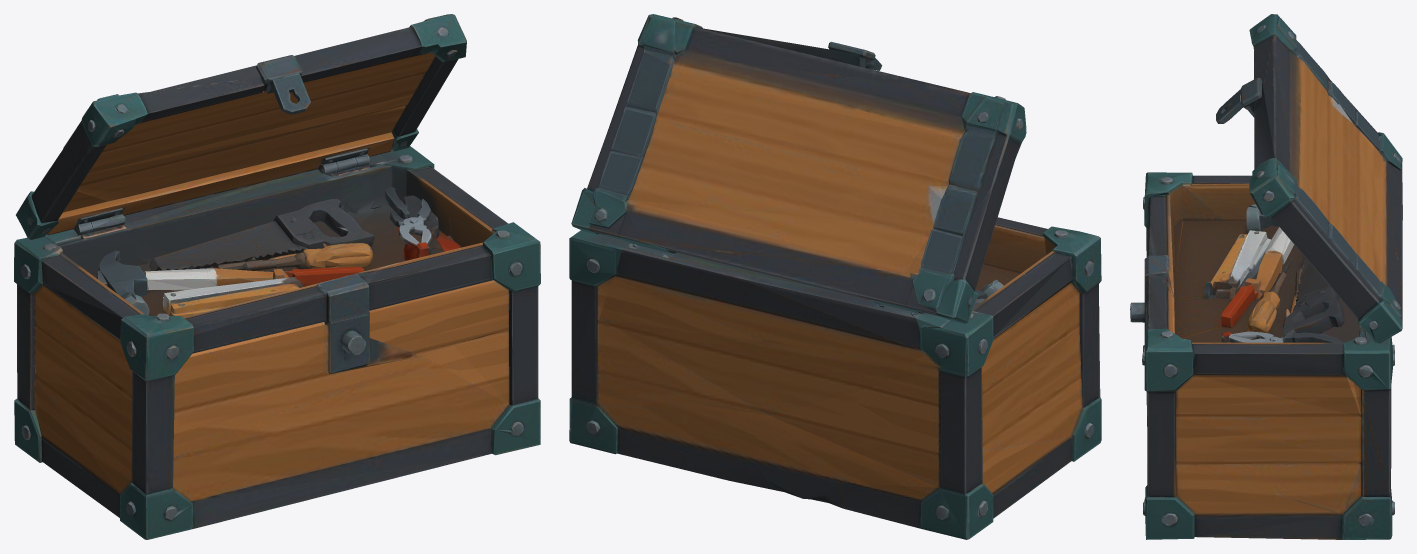
Rendered from toolTrunk.glb.
3 renders of one model, left to right at view 1: azimuth 30°, elevation 25°; view 2: azimuth 150°, elevation 25°; view 3: azimuth 270°, elevation 25°, orthographic. The views are drawn at different scales.
Parts seen in each view (by area): view 1: Mesh_0; view 2: Mesh_0; view 3: Mesh_0.
Boxes of the visible parts, x1,y1,x2,y2 form: Mesh_0: [14, 14, 540, 539]; Mesh_0: [569, 14, 1101, 539]; Mesh_0: [1130, 14, 1402, 539].
Size of the model in its own units: 0.5902 by 0.55 by 0.3752.
1 material, 1 textured.
